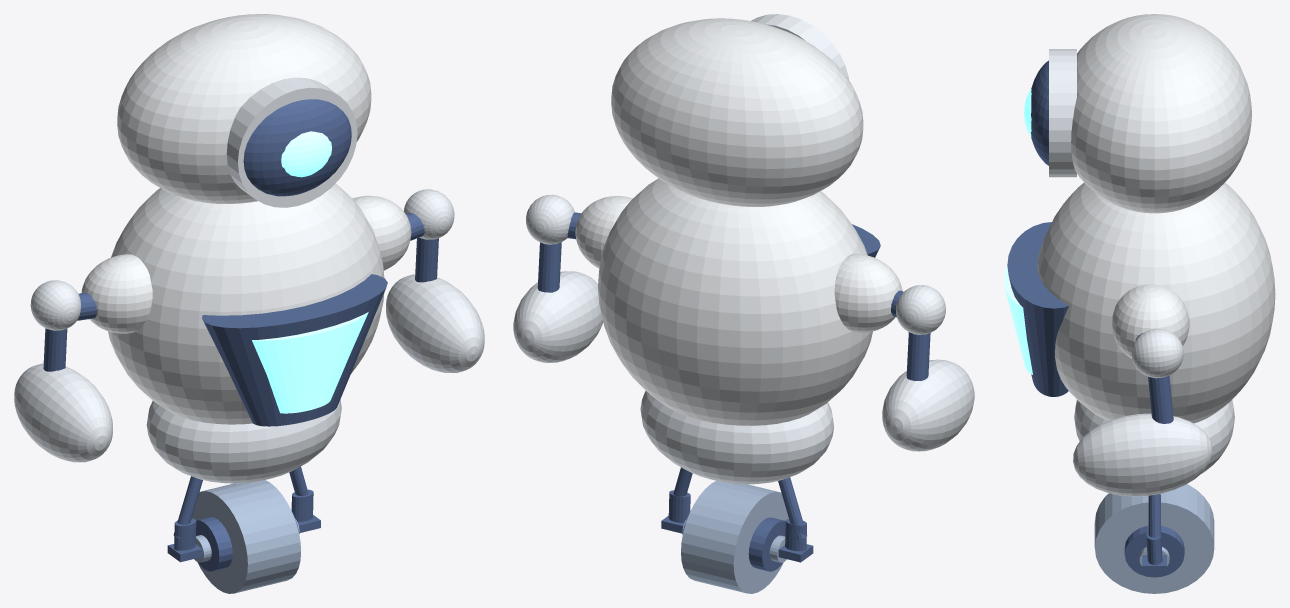
File: rook.glb
The picture shows the model from 3 angles, left to right: view 1: azimuth 30°, elevation 25°; view 2: azimuth 150°, elevation 25°; view 3: azimuth 270°, elevation 25°; orthographic projection.
Visible parts, largest first — view 1: rook_body_shell, rook_head_shell, rook_body_lower, rook_core_frame, rook_wheel, rook_hand_left, rook_hand_left.001, rook_core_shield, rook_eye_socket, rook_eye_ring, rook_shoulder_left, rook_shoulder_right (+8 smaller); view 2: rook_body_shell, rook_head_shell, rook_body_lower, rook_wheel, rook_hand_left, rook_hand_left.001, rook_shoulder_left, rook_shoulder_right, rook_hand_left.002, rook_hand_left.003, rook_eye_ring, rook_wheel_hub (+4 smaller); view 3: rook_body_shell, rook_head_shell, rook_hand_left.001, rook_wheel, rook_core_frame, rook_shoulder_right, rook_eye_ring, rook_hand_left.003, rook_body_lower, rook_wheel_hub, rook_eye_socket, rook_arm_left_lower.001 (+3 smaller).
Part boxes in pixels (<box>): rook_body_shell: <box>108,183,384,424</box>; rook_head_shell: <box>117,14,371,203</box>; rook_body_lower: <box>146,399,341,483</box>; rook_core_frame: <box>202,274,387,426</box>; rook_wheel: <box>192,480,300,593</box>; rook_hand_left: <box>14,363,112,462</box>; rook_hand_left.001: <box>386,274,484,372</box>; rook_core_shield: <box>252,312,368,413</box>; rook_eye_socket: <box>243,99,351,196</box>; rook_eye_ring: <box>226,77,357,207</box>; rook_shoulder_left: <box>81,254,152,333</box>; rook_shoulder_right: <box>352,195,411,270</box>; rook_body_shell: <box>598,178,872,425</box>; rook_head_shell: <box>611,18,863,206</box>; rook_body_lower: <box>640,391,833,484</box>; rook_wheel: <box>681,481,788,593</box>; rook_hand_left: <box>882,359,974,451</box>; rook_hand_left.001: <box>513,271,603,362</box>; rook_shoulder_left: <box>834,254,902,332</box>; rook_shoulder_right: <box>575,196,632,268</box>; rook_hand_left.002: <box>896,285,945,334</box>; rook_hand_left.003: <box>526,194,574,244</box>; rook_eye_ring: <box>751,14,848,79</box>; rook_wheel_hub: <box>682,515,785,571</box>; rook_body_shell: <box>1037,182,1275,423</box>; rook_head_shell: <box>1071,14,1251,213</box>; rook_hand_left.001: <box>1073,413,1212,496</box>; rook_wheel: <box>1094,484,1214,593</box>; rook_core_frame: <box>1007,222,1068,396</box>; rook_shoulder_right: <box>1111,284,1189,358</box>; rook_eye_ring: <box>1049,49,1076,177</box>; rook_hand_left.003: <box>1131,329,1183,378</box>; rook_body_lower: <box>1074,400,1234,474</box>; rook_wheel_hub: <box>1124,525,1184,577</box>; rook_eye_socket: <box>1031,60,1048,165</box>; rook_arm_left_lower.001: <box>1148,375,1173,423</box>.
Bounding box in the file's own units: 1.28 × 1.56 × 0.6976.
